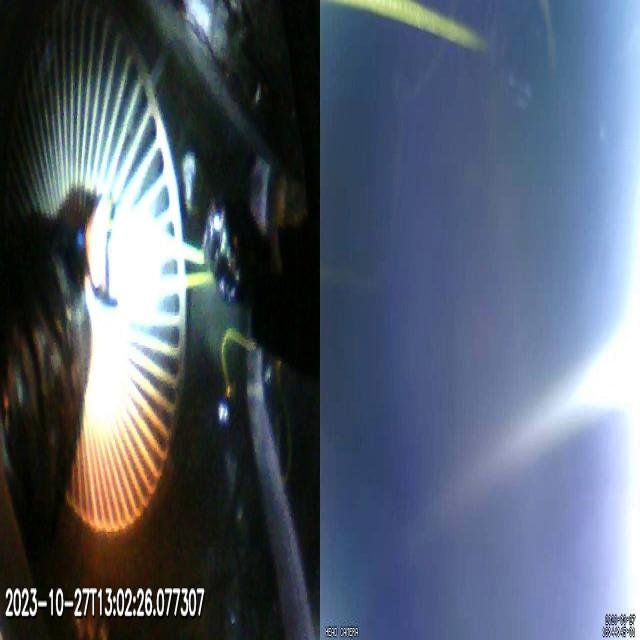head: (97, 198, 162, 318)
